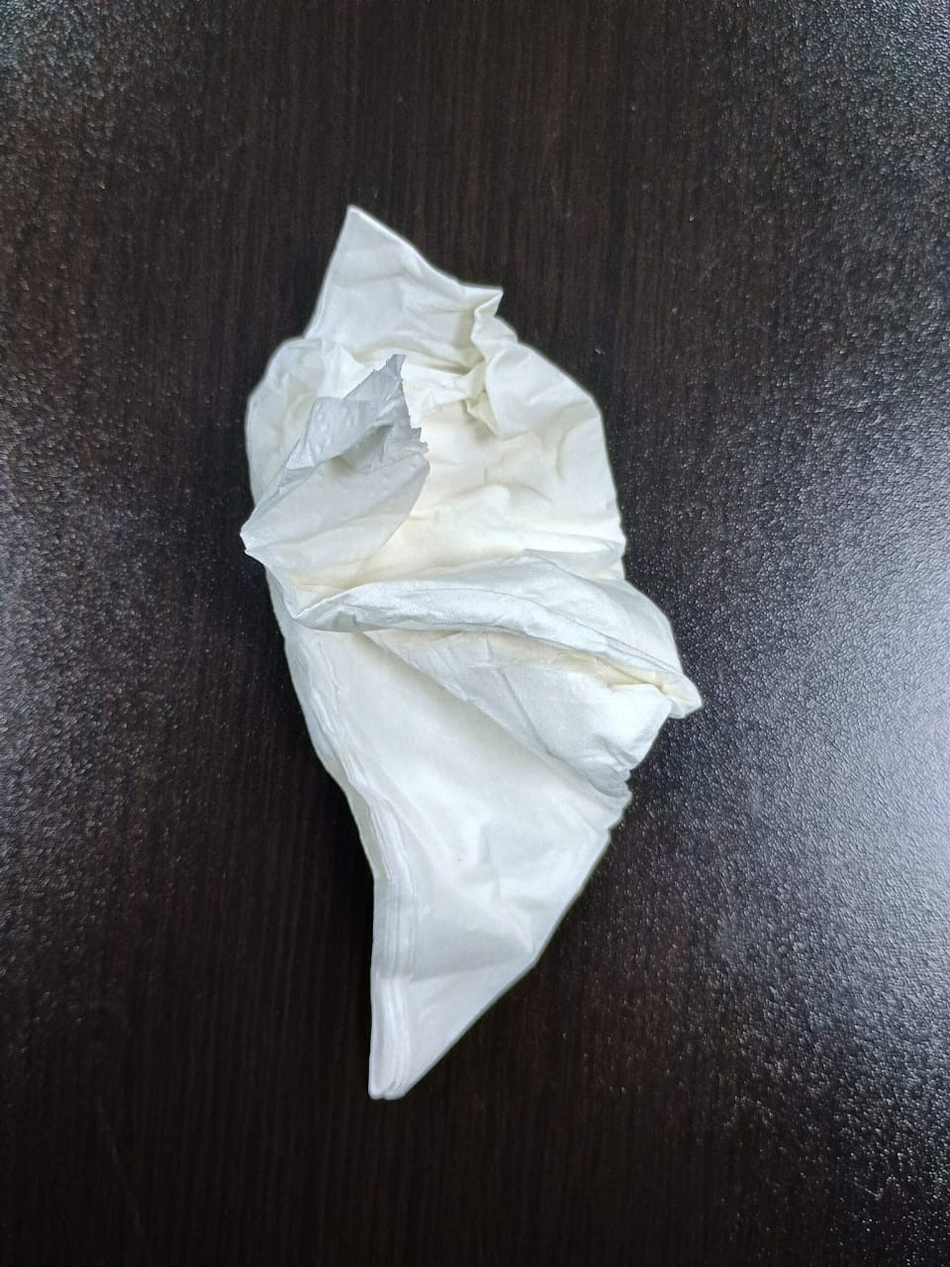Ordinario: (238, 205, 703, 1103)
